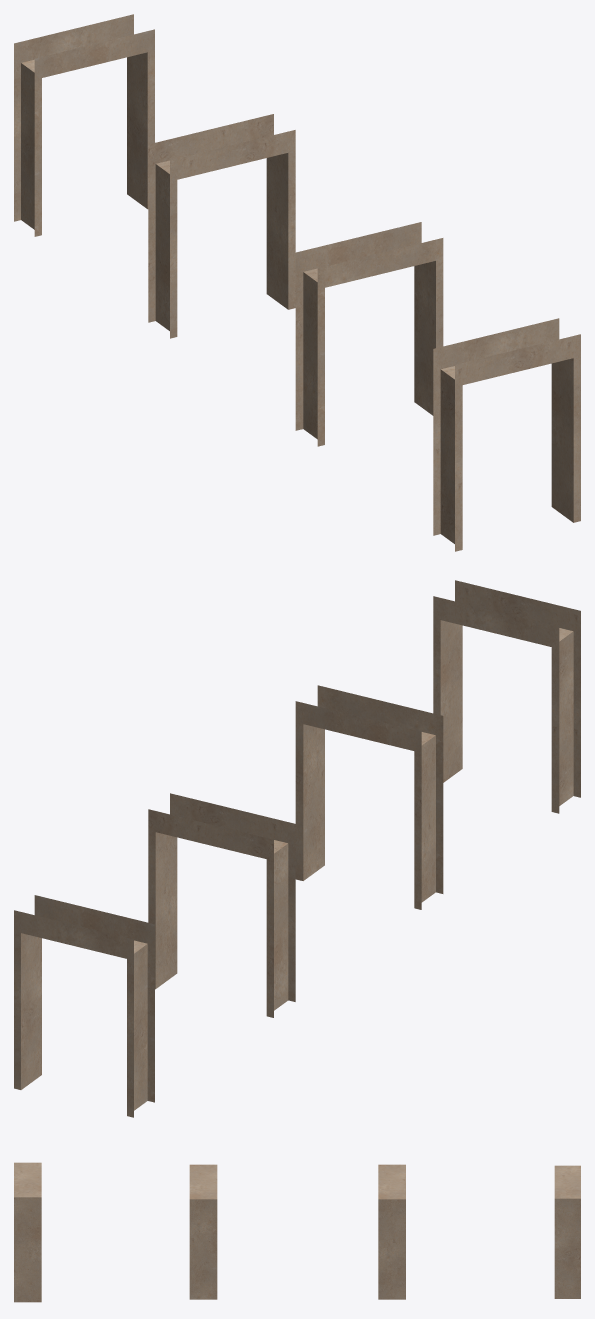
Rendered from Pillars .fbx.
3 renders of one model, top to bottom at view 1: azimuth 30°, elevation 25°; view 2: azimuth 150°, elevation 25°; view 3: azimuth 270°, elevation 25°, orthographic. The views are drawn at different scales.
Parts seen in each view (by area): view 1: Pillars; view 2: Pillars; view 3: Pillars.
Part boxes in pixels (bbox=[...]): Pillars: bbox=[14, 14, 580, 551]; Pillars: bbox=[14, 580, 580, 1117]; Pillars: bbox=[14, 1162, 580, 1302].
Bounding box in the file's own units: 341 × 484 × 2082.
